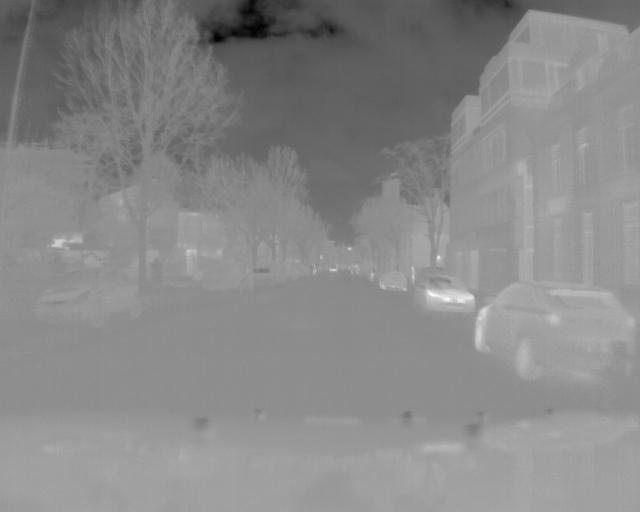car: (471, 277, 634, 388), (33, 265, 147, 329), (415, 274, 476, 314), (375, 270, 409, 290)
